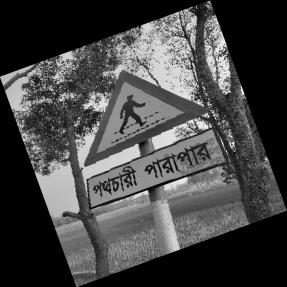Pedestrian-crossing: (82, 69, 225, 212)
